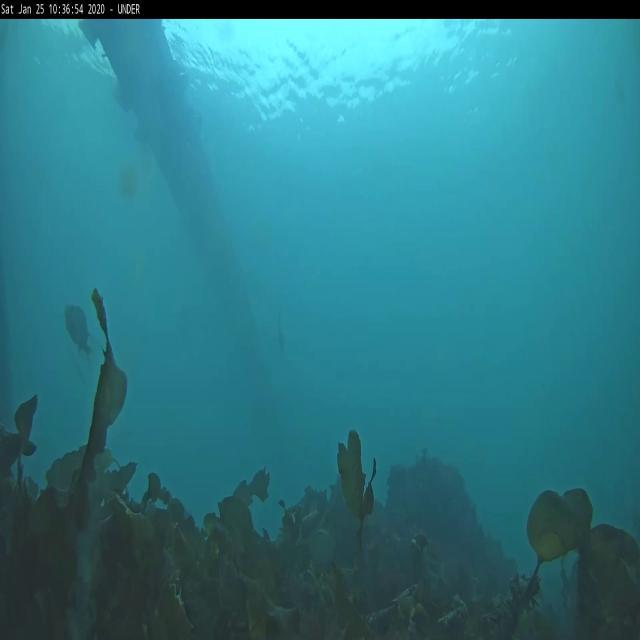fish: (66, 300, 94, 352), (274, 313, 286, 357)
